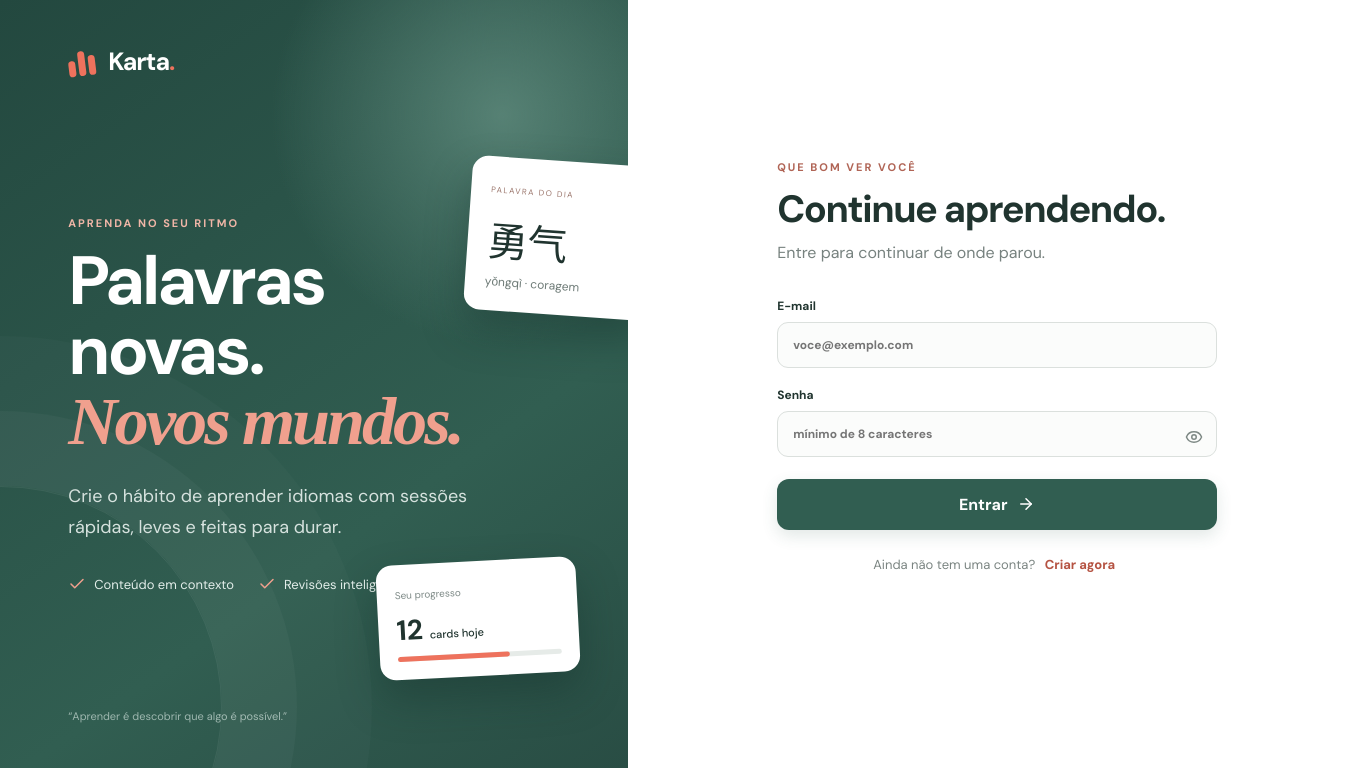
Test: AuthPage › mostra o erro devolvido pela autenticação
The width and height of the screenshot is (1366, 768).
Type "ana@example.com" into the field labelled "E-mail" at (997, 344), box [777,322,1217,368]
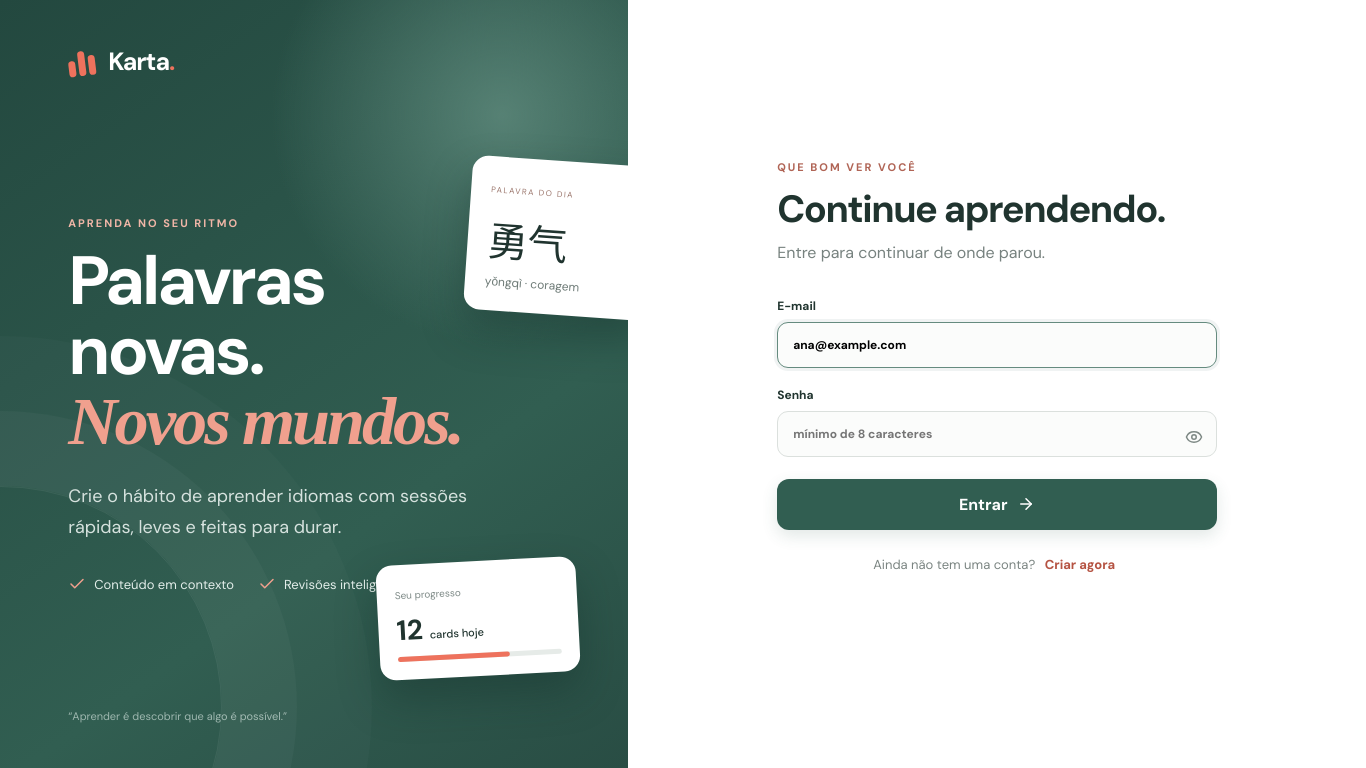
Type "Password1" into the password field labelled "Senha" at (997, 434), box [777,410,1217,456]
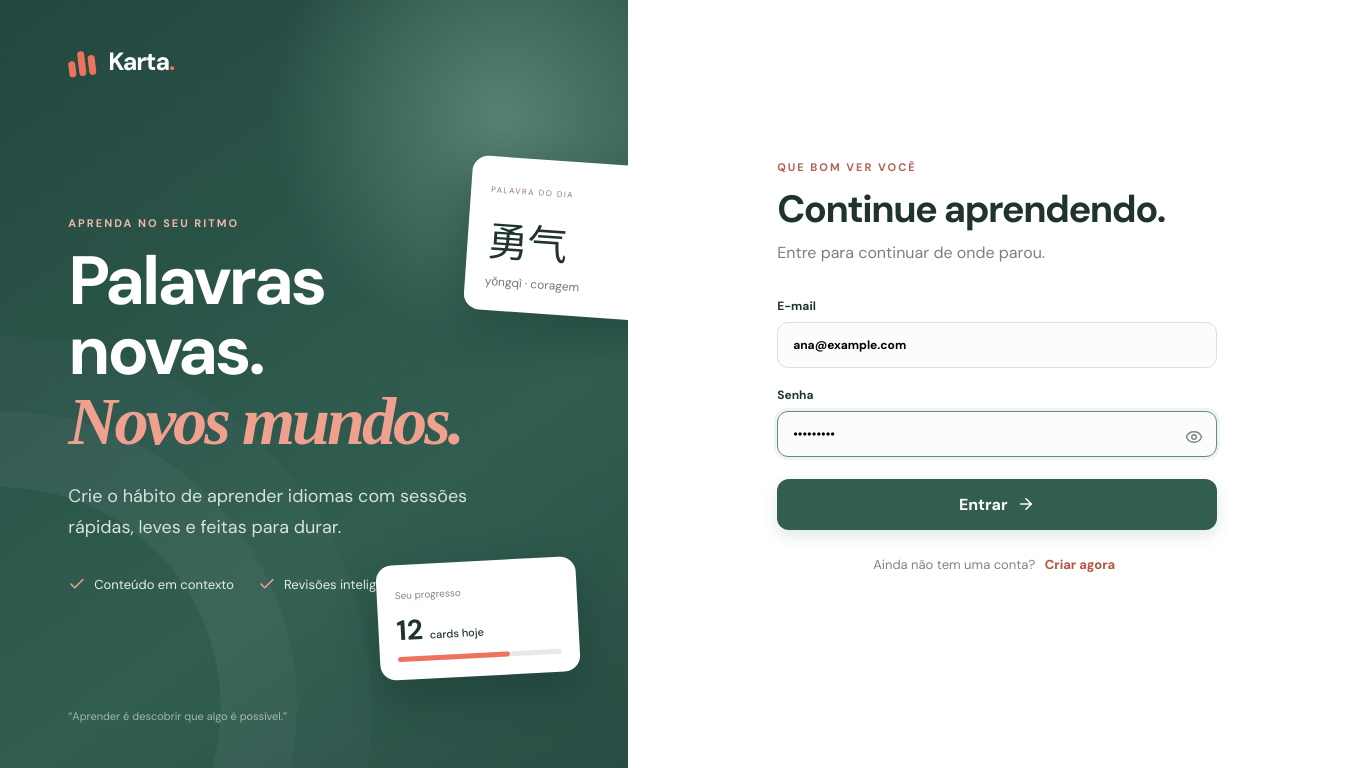
Click the button "Entrar" at (997, 504), box [777,478,1217,530]
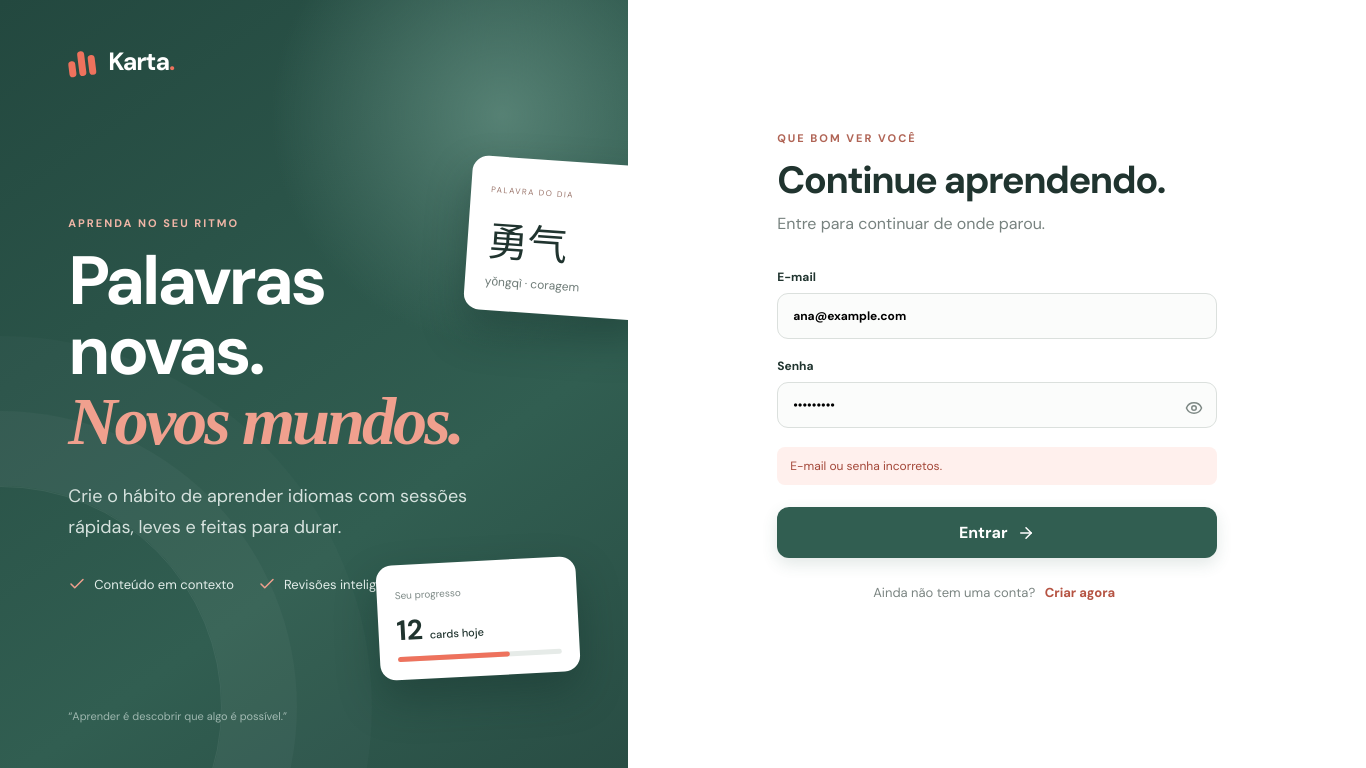
Expected: the message reads "E-mail ou senha incorretos.", [790,458,942,474]
